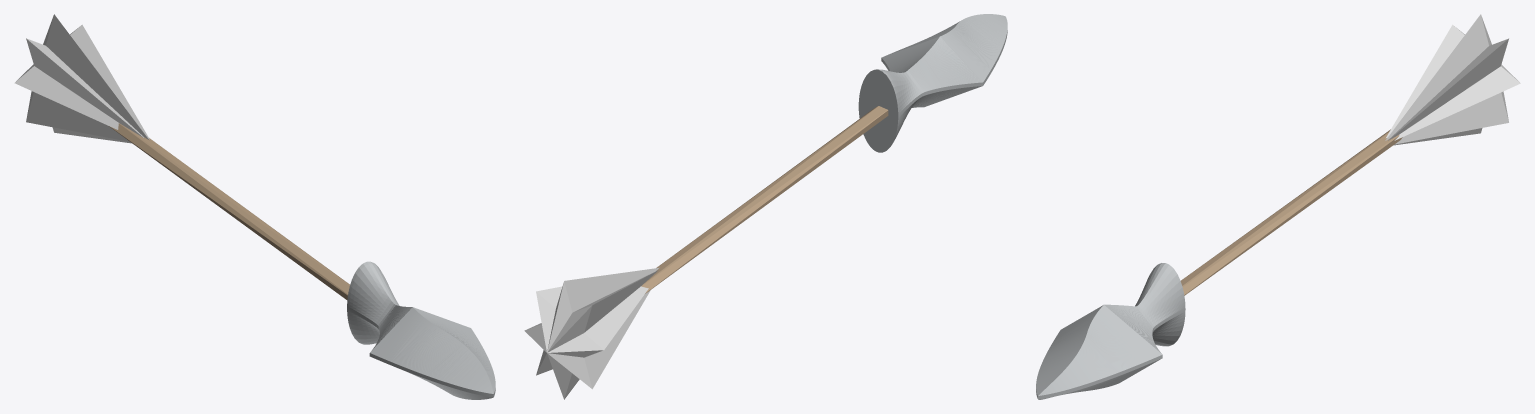
The model's file is Arrow.glb.
The picture shows the model from 3 angles, left to right: view 1: azimuth 30°, elevation 25°; view 2: azimuth 150°, elevation 25°; view 3: azimuth 330°, elevation 25°; orthographic projection.
Visible parts, largest first — view 1: Mesh_Mesh_head_geo.001_lambert2SG.001; view 2: Mesh_Mesh_head_geo.001_lambert2SG.001; view 3: Mesh_Mesh_head_geo.001_lambert2SG.001.
Boxes of the visible parts, <box> form: Mesh_Mesh_head_geo.001_lambert2SG.001: <box>14,14,495,399</box>; Mesh_Mesh_head_geo.001_lambert2SG.001: <box>524,14,1007,399</box>; Mesh_Mesh_head_geo.001_lambert2SG.001: <box>1036,14,1520,399</box>.
Bounding box in the file's own units: 18 × 20.14 × 140.
